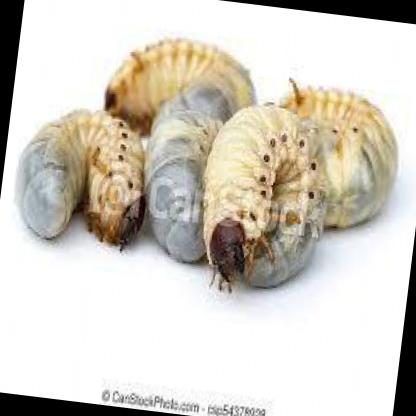root grubs: (200, 104, 323, 294), (15, 108, 146, 250)
